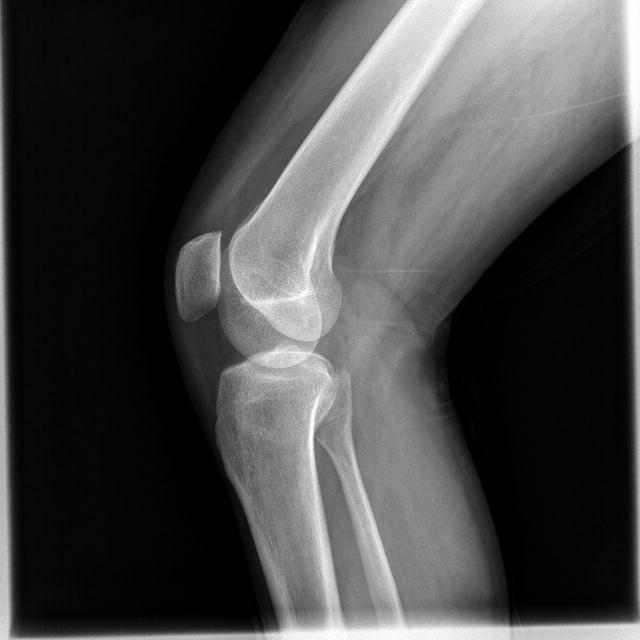Knee: (167, 222, 345, 441)
